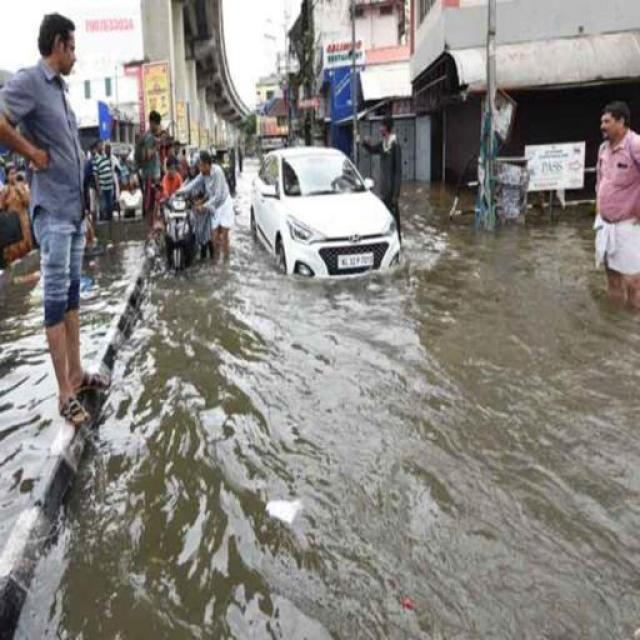puddle: (102, 312, 637, 633), (411, 216, 601, 634), (142, 283, 308, 631)
